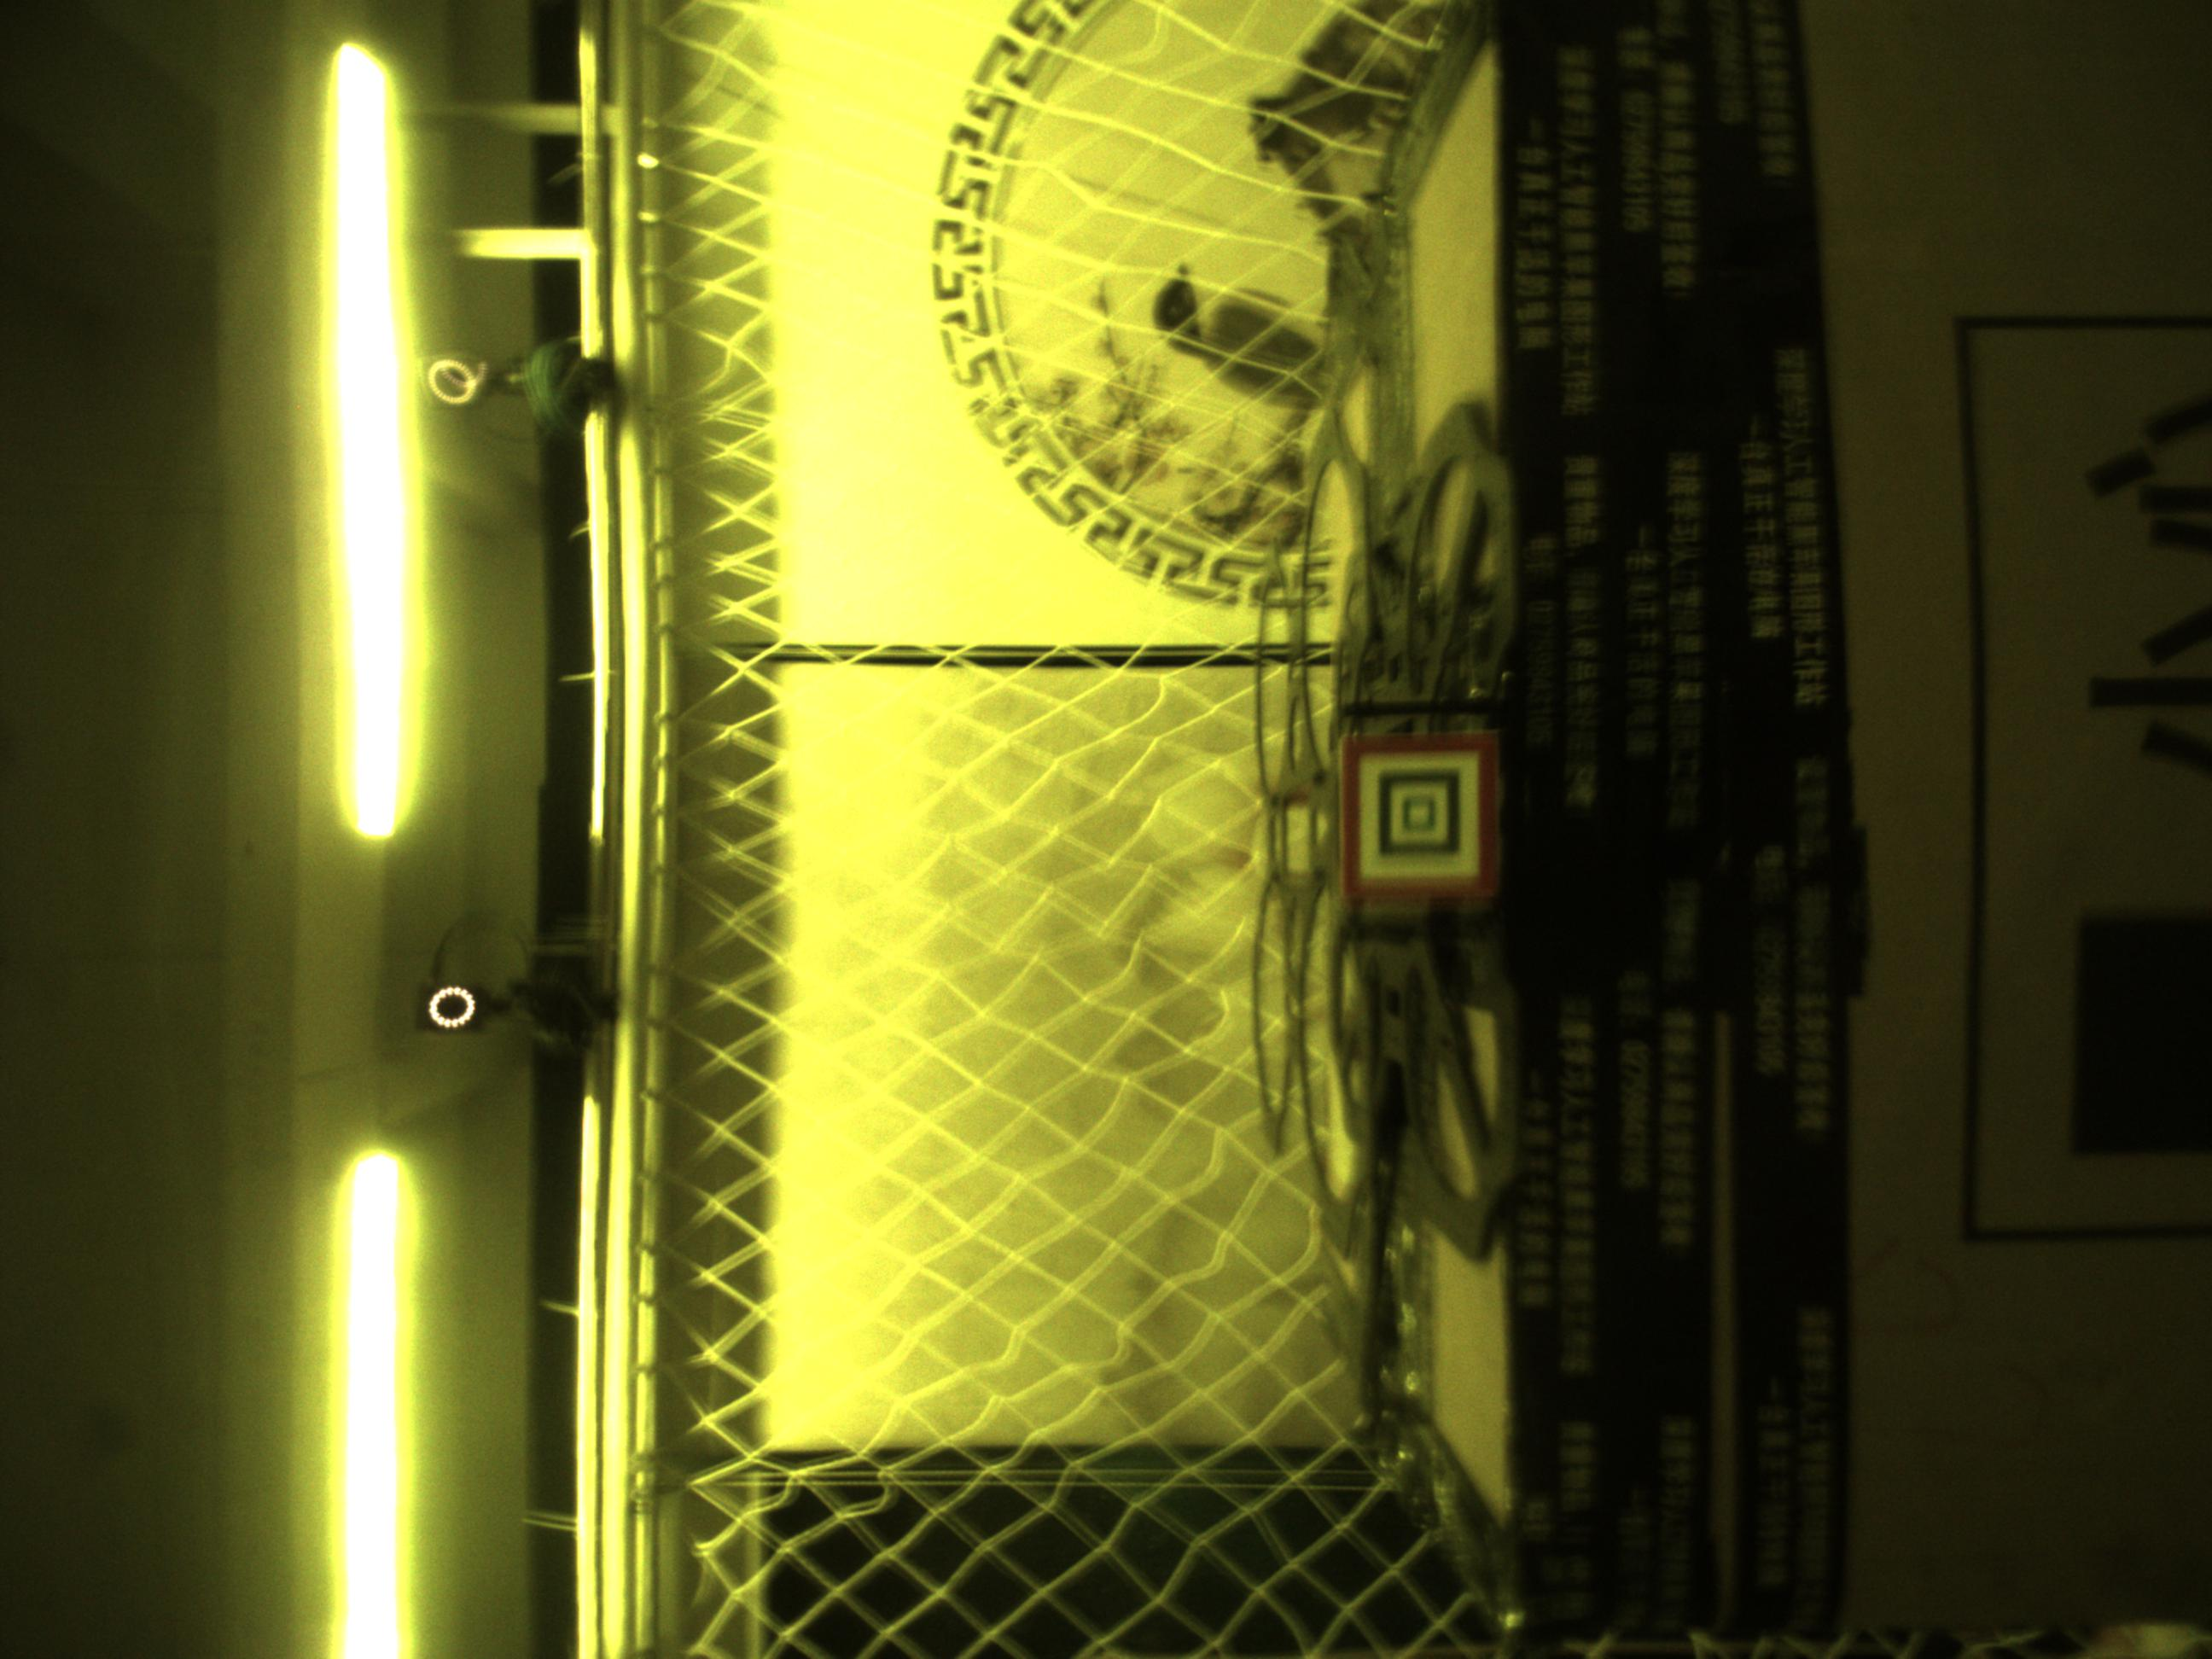outline: (1339, 734, 1498, 899)
